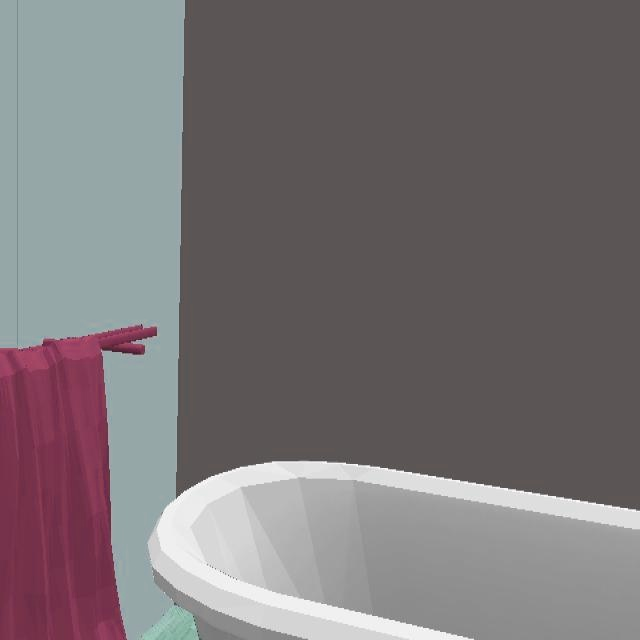bathtube: (149, 462, 640, 638)
